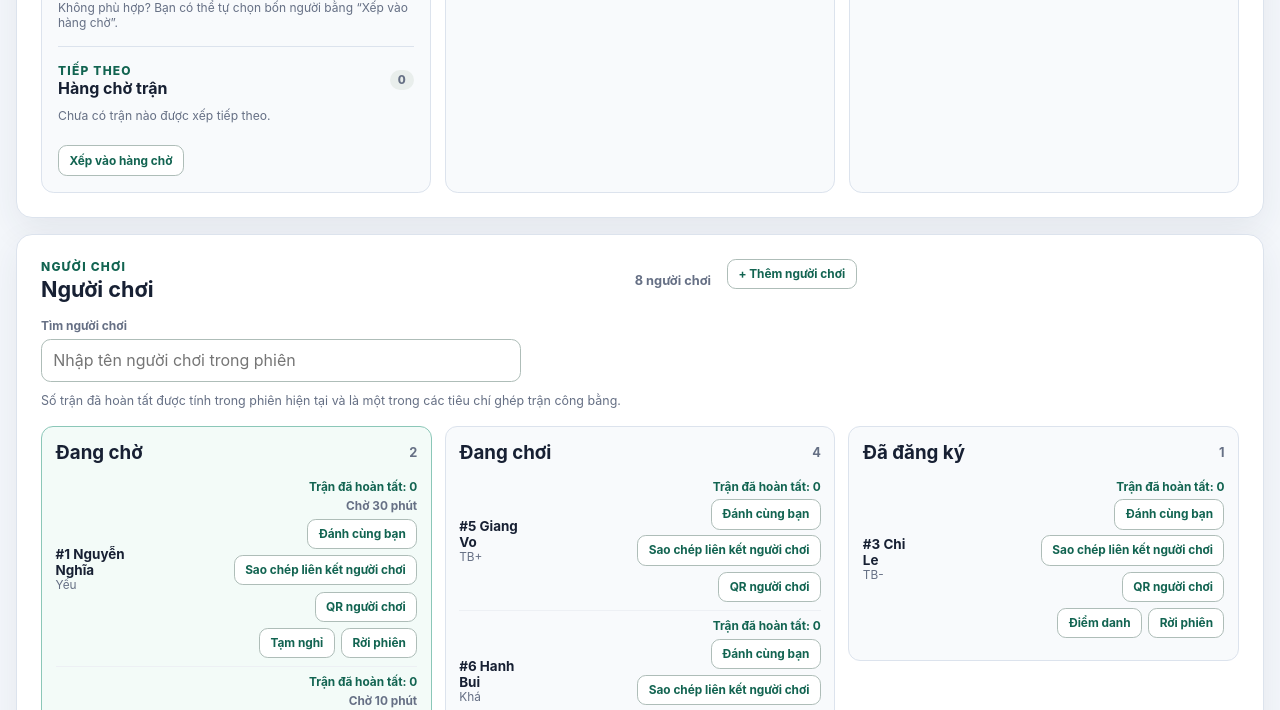
Test: LiveSessionScreen › filters current Participants across groups case- and diacritic-insensitively
(page scrolled)
Type "NGHIA" into the search field labelled "Tìm người chơi".
click(281, 360); type("NGHIA")  # box [41,339,521,382]
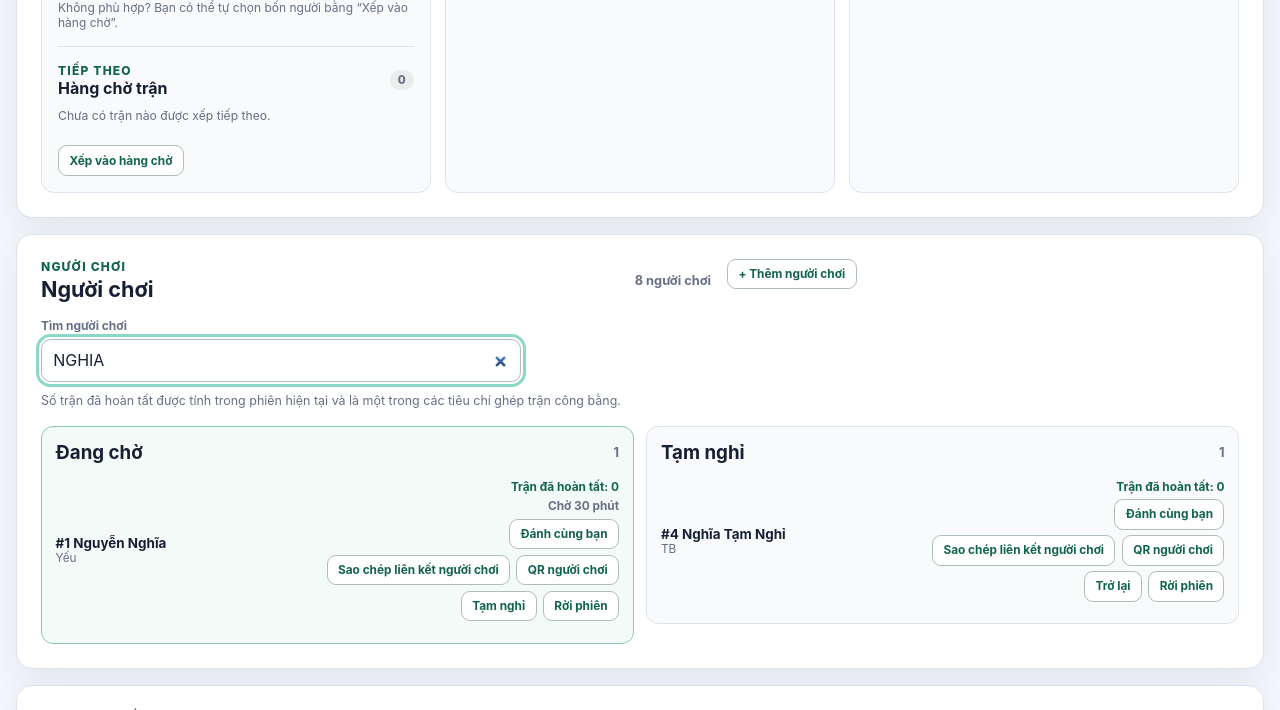
Expected: the element named "Tạm nghỉ: 1 người" is shown, [646,426,1239,624]
Expected: the element named "Đang chờ: 1 người" is shown, [41,426,634,644]
